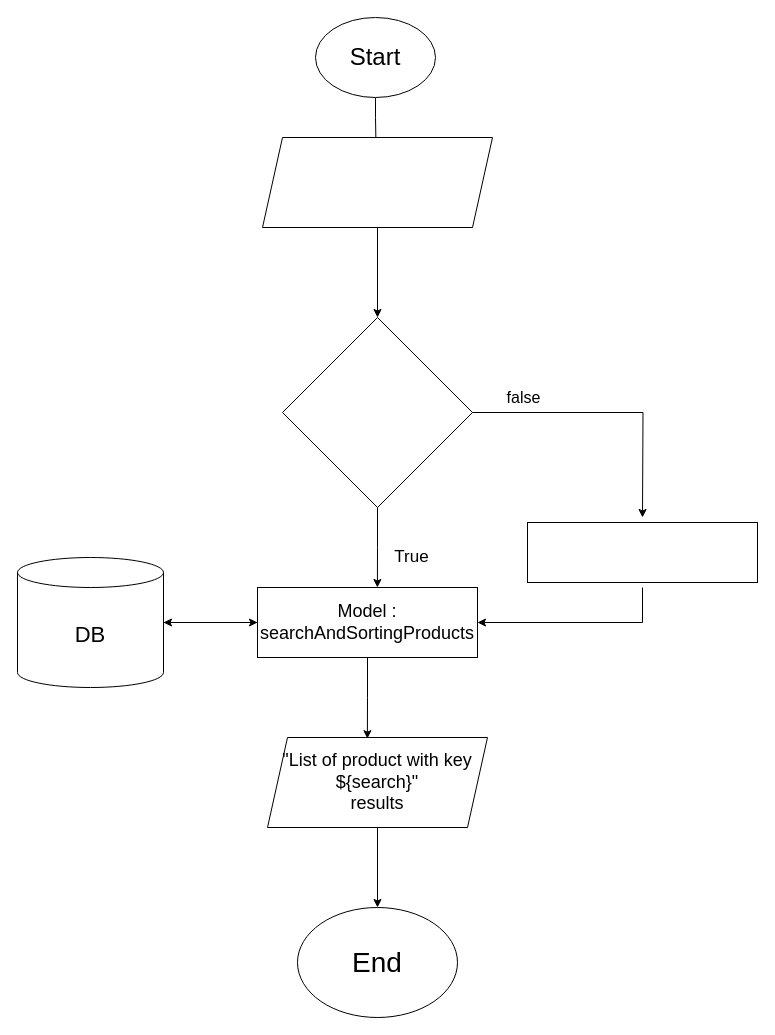
Some shapes in this 775 by 1035 pixel diagram are drawn without their labels. The shapes that lost their labels are listed below. From the top down, each one's centre as x and y in pixels, then its label:
point 377,182: req.query search || "" col || "id" type || "ASC"
point 377,412: search || col || type (value of search || col || type are assigned)
point 642,552: not yet asign req query will assigned with default value
